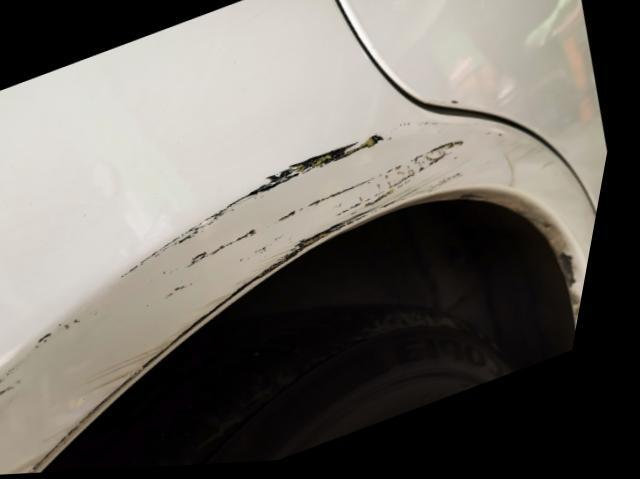scratch: (0, 123, 478, 476)
